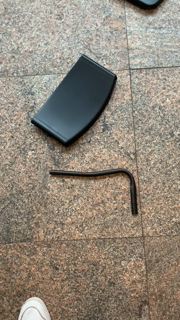Back: (30, 53, 121, 152)
L pipe: (49, 166, 141, 221)
